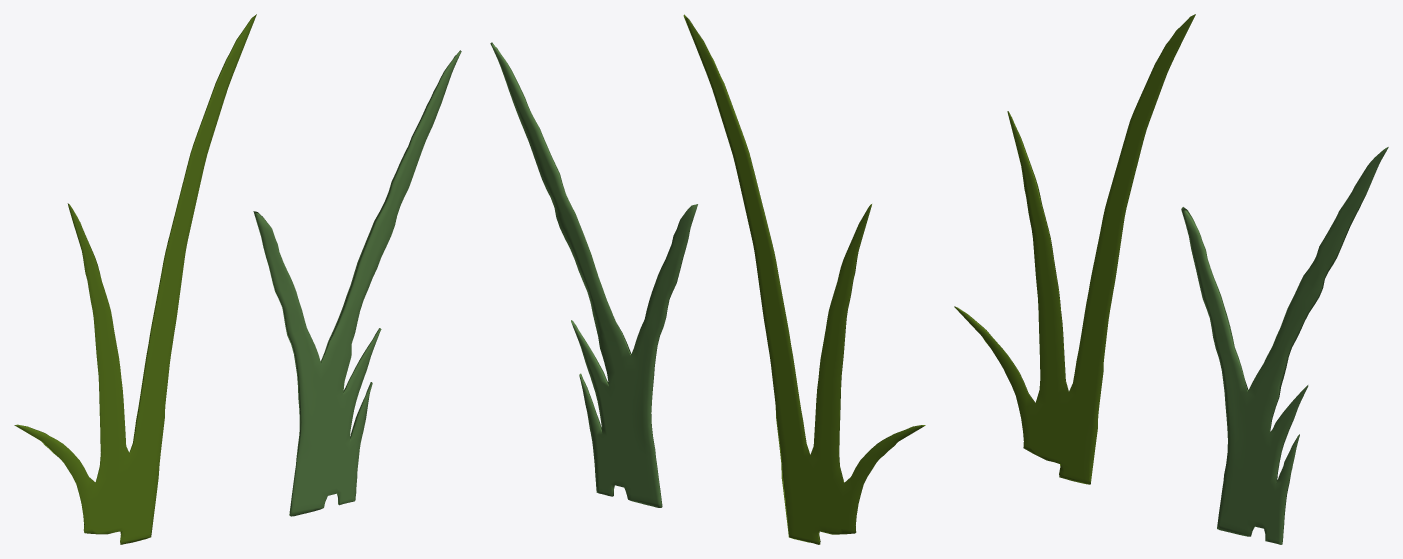
Rendered from Grass2.fbx.
3 renders of one model, left to right at view 1: azimuth 30°, elevation 25°; view 2: azimuth 150°, elevation 25°; view 3: azimuth 330°, elevation 25°, orthographic.
Visible parts, largest first — view 1: bevelPolygon1, bevelPolygon2; view 2: bevelPolygon1, bevelPolygon2; view 3: bevelPolygon1, bevelPolygon2.
Part boxes in pixels (x1,y1,x2,y2): bevelPolygon1: [14, 14, 256, 544]; bevelPolygon2: [253, 50, 461, 516]; bevelPolygon1: [683, 14, 925, 544]; bevelPolygon2: [490, 42, 697, 507]; bevelPolygon1: [954, 14, 1195, 484]; bevelPolygon2: [1181, 147, 1388, 544].
Size of the model in its own units: 11.83 by 12.96 by 0.3659.
